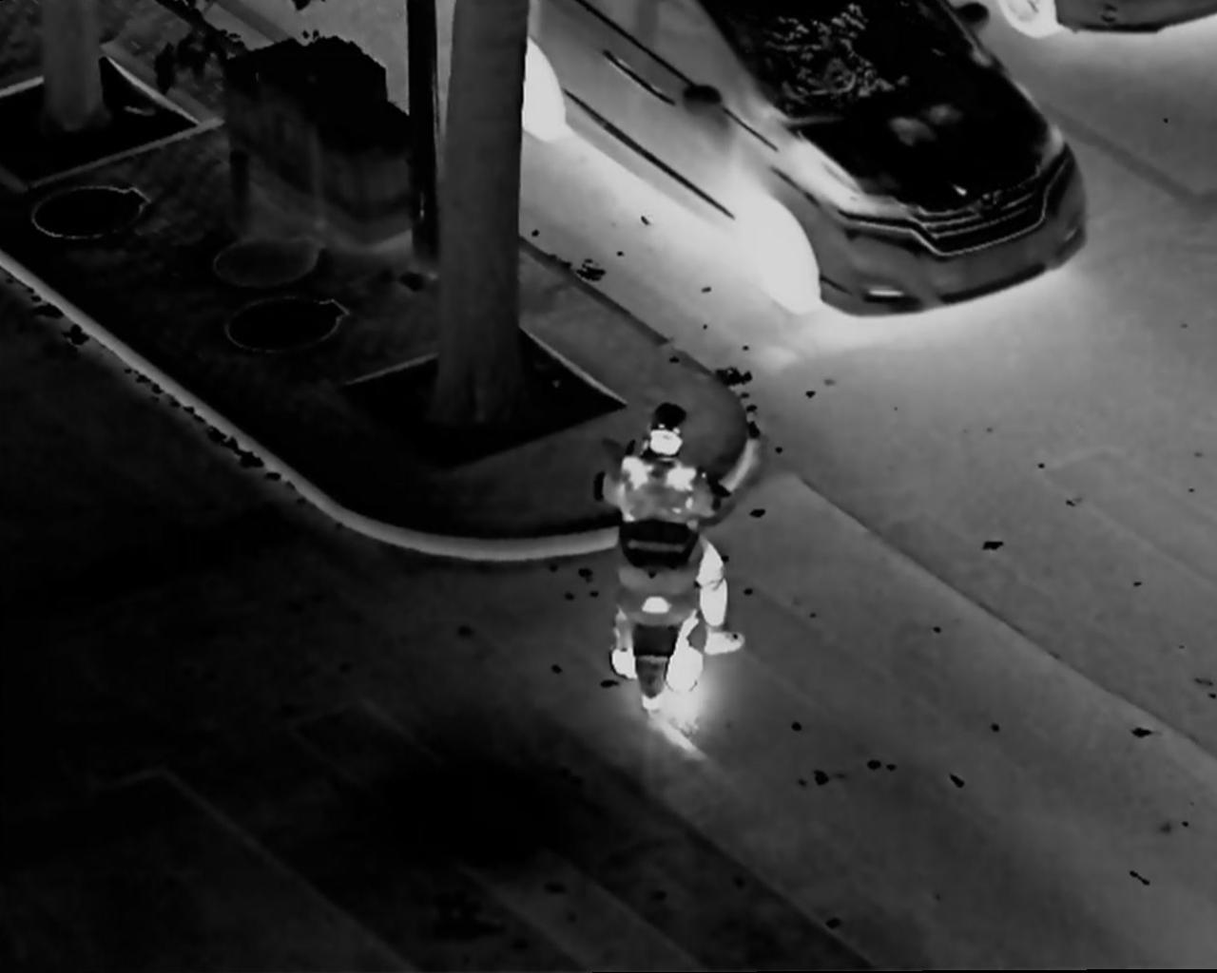person: (598, 404, 747, 686)
